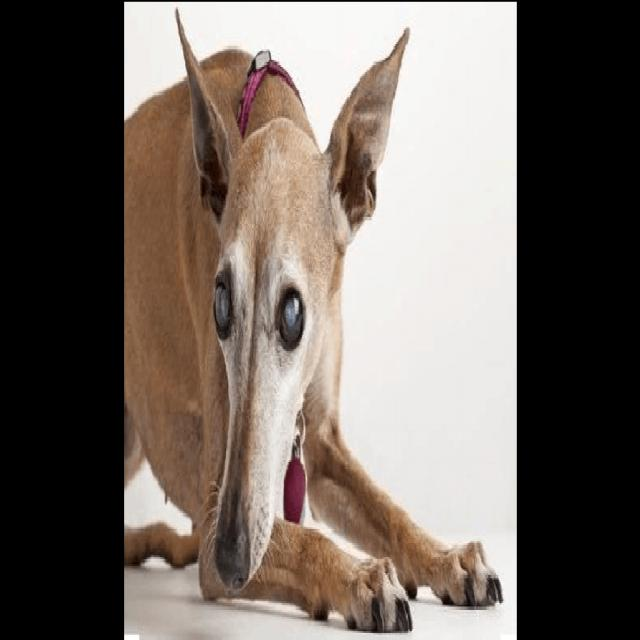eye: (275, 284, 306, 356), (212, 269, 235, 342)
